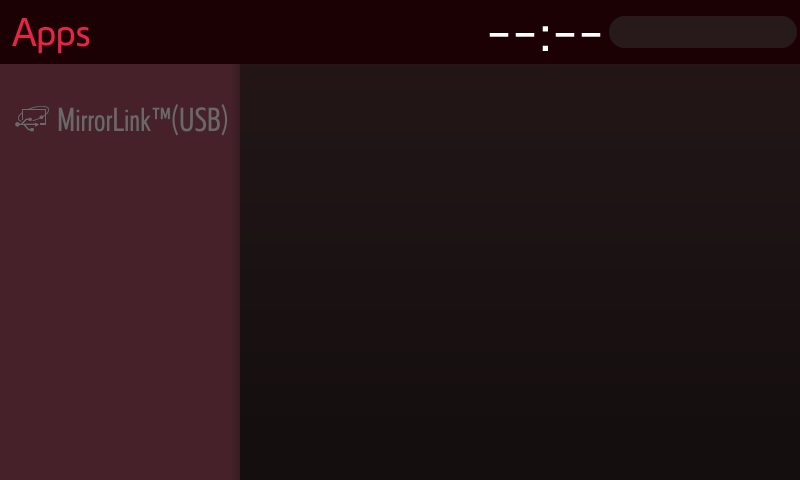untouchPart: (469, 9, 796, 53), (9, 97, 237, 147), (12, 13, 102, 57)
